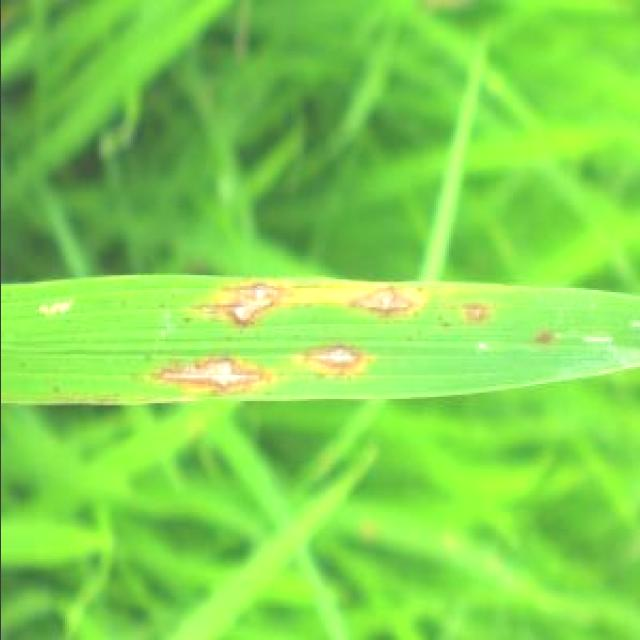Brown_Spot: (124, 276, 492, 394)
